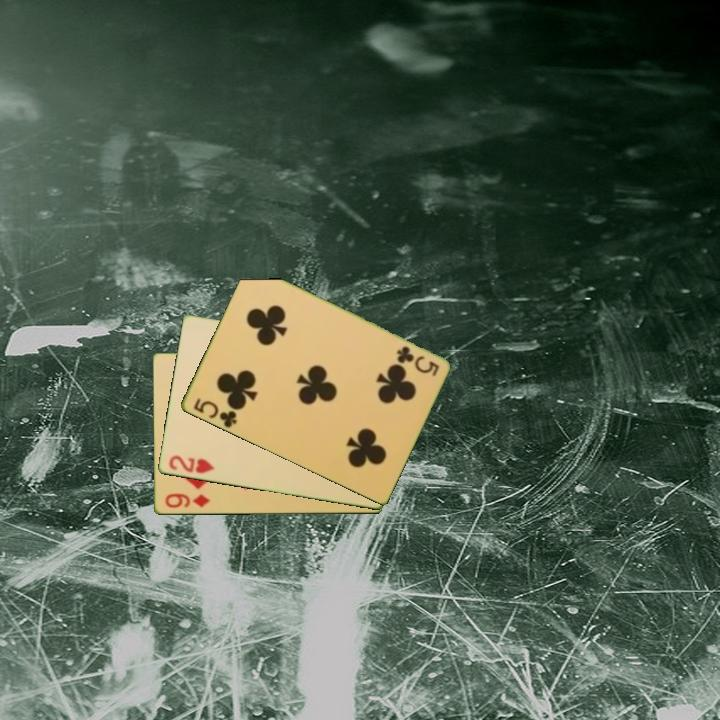2h: (165, 452, 217, 477)
5c: (392, 342, 442, 380), (190, 395, 240, 431)
9d: (161, 490, 212, 511)
